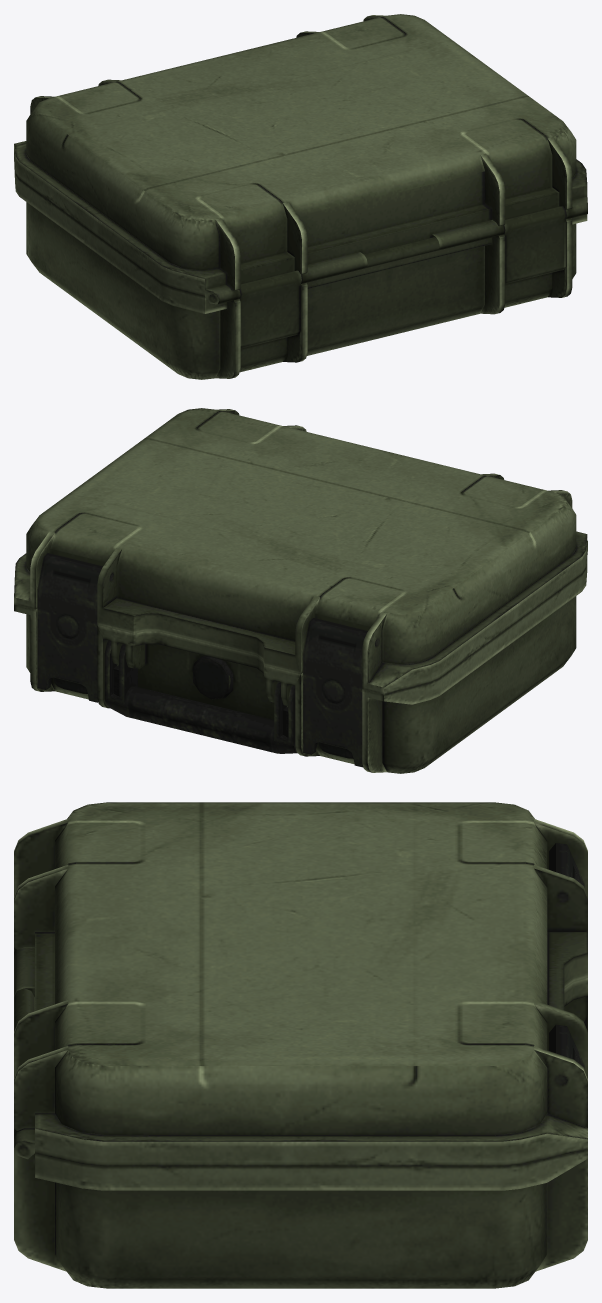
Rendered from PistolCase.fbx.
3 views of the same model, one above another, from view 1: azimuth 30°, elevation 25°; view 2: azimuth 150°, elevation 25°; view 3: azimuth 270°, elevation 25° (orthographic). The views are drawn at different scales.
Visible parts, largest first — view 1: PistolCase; view 2: PistolCase; view 3: PistolCase.
Part boxes in pixels (left/top/right/bottom): PistolCase: left=14, top=14, right=587, bottom=379; PistolCase: left=14, top=408, right=587, bottom=773; PistolCase: left=14, top=802, right=587, bottom=1288.
Size of the model in its own units: 0.2181 by 0.0797 by 0.1839.
